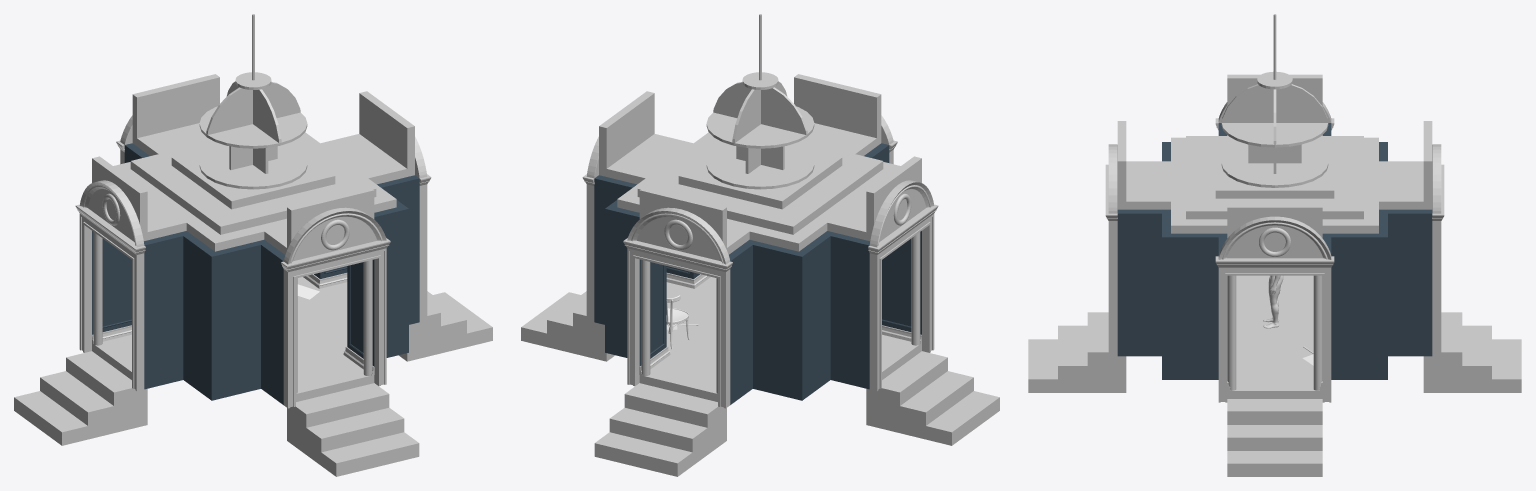
Rendered from monumentoJustica.glb.
The picture shows the model from 3 angles, left to right: view 1: azimuth 30°, elevation 25°; view 2: azimuth 150°, elevation 25°; view 3: azimuth 270°, elevation 25°; orthographic projection.
Parts seen in each view (by area): view 1: Base.002, Tecto, Escadas, Base.003, Base, Circle.006, Abobada_01, Colunas Estreitas, Circle.002, Abobada_03, Circle.001, Base.004 (+3 smaller); view 2: Base.002, Tecto, Escadas, Base.003, Base, Circle.006, Abobada_01, Colunas Estreitas, Circle.002, Abobada_03, Circle.001, Base.004 (+4 smaller); view 3: Base.002, Tecto, Escadas, Base, Base.003, Circle.006, Circle.001, Abobada_01, Colunas Estreitas, Abobada_03, Plane.002, Man (+1 smaller).
Part boxes in pixels (x1=…): Base.002: x1=92, y1=143, x2=419, y2=404; Tecto: x1=92, y1=74, x2=414, y2=254; Escadas: x1=14, y1=291, x2=492, y2=476; Base.003: x1=75, y1=140, x2=431, y2=408; Base: x1=92, y1=277, x2=374, y2=401; Circle.006: x1=79, y1=115, x2=427, y2=264; Abobada_01: x1=199, y1=145, x2=307, y2=189; Colunas Estreitas: x1=93, y1=232, x2=372, y2=393; Circle.002: x1=206, y1=82, x2=300, y2=134; Abobada_03: x1=199, y1=106, x2=307, y2=148; Circle.001: x1=226, y1=81, x2=281, y2=143; Base.004: x1=92, y1=273, x2=374, y2=375; Base.002: x1=594, y1=143, x2=921, y2=404; Tecto: x1=599, y1=74, x2=921, y2=254; Escadas: x1=521, y1=291, x2=999, y2=476; Base.003: x1=582, y1=140, x2=938, y2=408; Base: x1=639, y1=277, x2=921, y2=401; Circle.006: x1=586, y1=115, x2=934, y2=264; Abobada_01: x1=706, y1=145, x2=814, y2=189; Colunas Estreitas: x1=641, y1=232, x2=920, y2=393; Circle.002: x1=713, y1=82, x2=807, y2=134; Abobada_03: x1=706, y1=106, x2=814, y2=148; Circle.001: x1=732, y1=81, x2=787, y2=143; Base.004: x1=639, y1=273, x2=921, y2=375; Base.002: x1=1117, y1=123, x2=1432, y2=379; Tecto: x1=1117, y1=74, x2=1432, y2=237; Escadas: x1=1028, y1=312, x2=1521, y2=476; Base: x1=1227, y1=275, x2=1322, y2=398; Base.003: x1=1105, y1=118, x2=1444, y2=402; Circle.006: x1=1108, y1=102, x2=1441, y2=259; Circle.001: x1=1221, y1=84, x2=1328, y2=122; Abobada_01: x1=1221, y1=144, x2=1328, y2=187; Colunas Estreitas: x1=1227, y1=275, x2=1322, y2=390; Abobada_03: x1=1221, y1=123, x2=1328, y2=147; Plane.002: x1=1248, y1=144, x2=1301, y2=163; Man: x1=1263, y1=275, x2=1283, y2=328.
Size of the model in its own units: 8.3 by 6.65 by 8.3.
